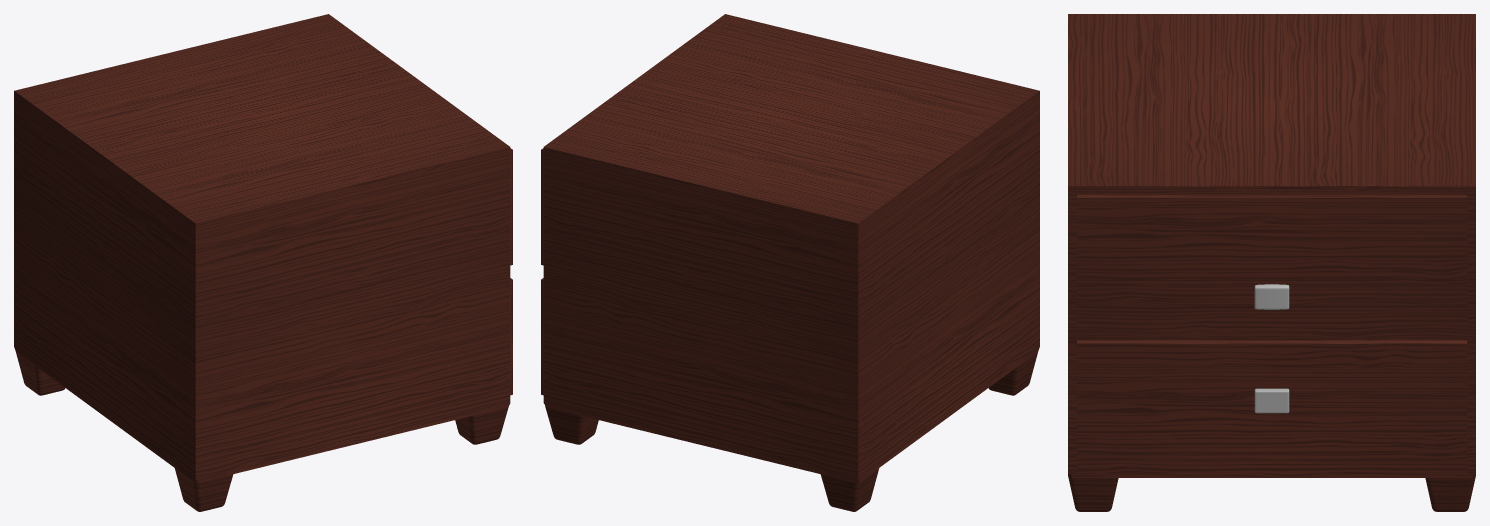
Rendered from Tumbochka.fbx.
3 renders of one model, left to right at view 1: azimuth 30°, elevation 25°; view 2: azimuth 150°, elevation 25°; view 3: azimuth 270°, elevation 25°, orthographic. The views are drawn at different scales.
Parts seen in each view (by area): view 1: Cube; view 2: Cube; view 3: Cube, Cube.001, Cube.002.
Boxes of the visible parts, x1,y1,x2,y2 form: Cube: (14, 14, 512, 511); Cube: (541, 14, 1039, 511); Cube: (1068, 14, 1475, 511); Cube.001: (1254, 388, 1289, 413); Cube.002: (1254, 284, 1289, 309).
Size of the model in its own units: 208 by 179 by 200.
2 materials, 1 textured.
